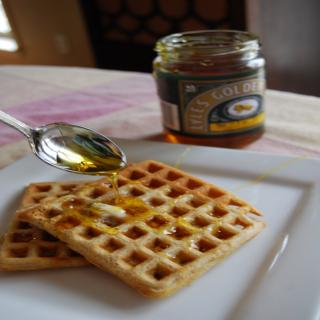Waffle: (16, 158, 266, 299), (0, 177, 94, 274)
